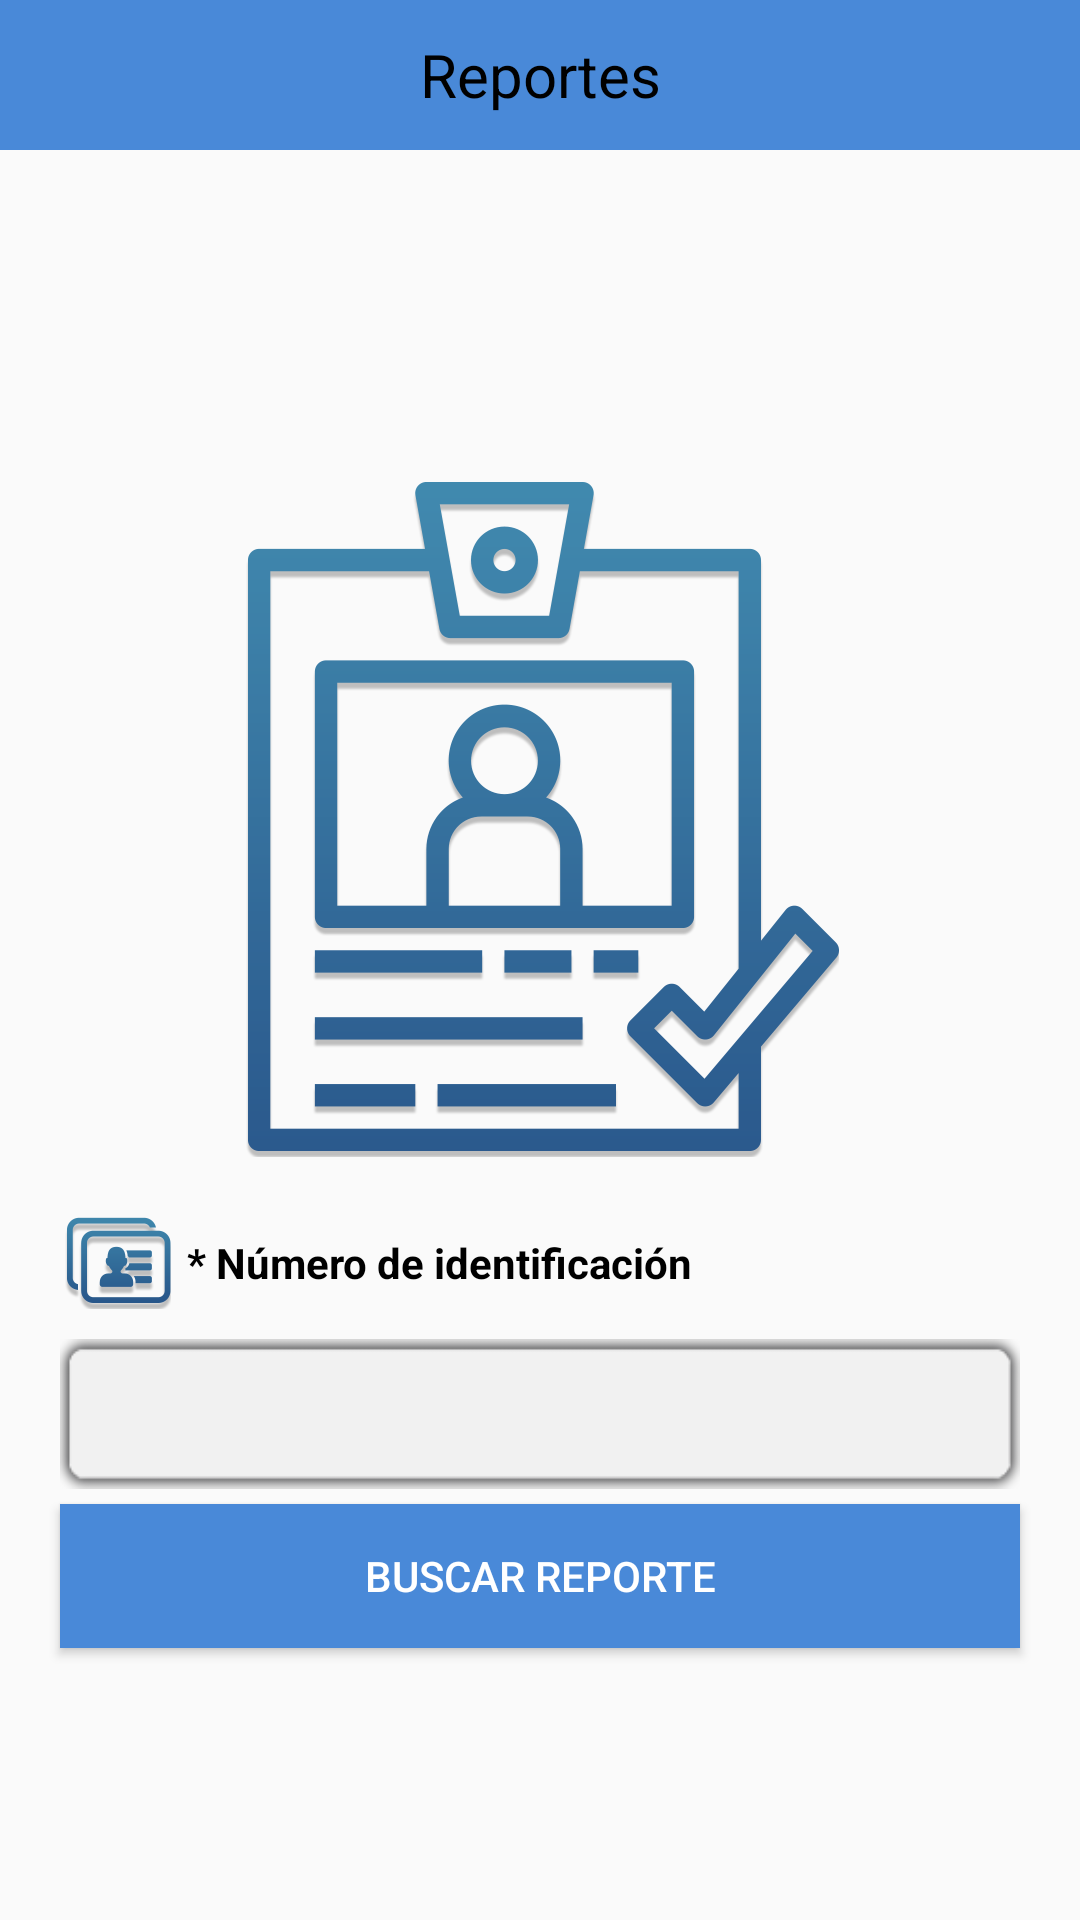

Icons on this 1080*1920 Android screen, each with its box as box=[x1, y1, x2, y2]:
business cards: box=[67, 1217, 171, 1309]
